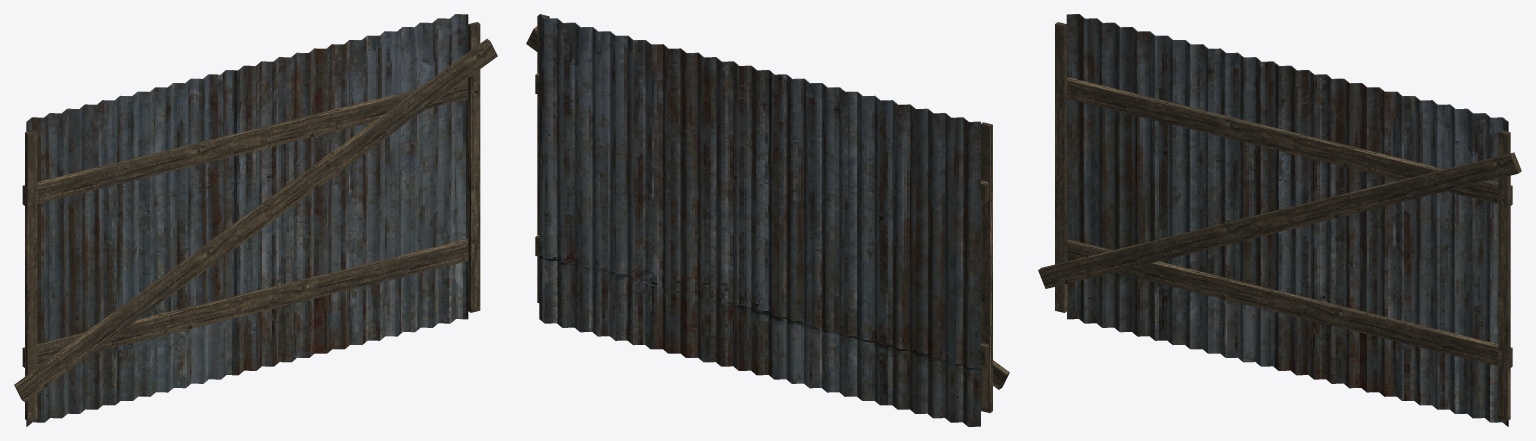
File: fence_b_1.glb
3 renders of one model, left to right at view 1: azimuth 30°, elevation 25°; view 2: azimuth 150°, elevation 25°; view 3: azimuth 330°, elevation 25°, orthographic.
Parts seen in each view (by area): view 1: fence_b_1; view 2: fence_b_1; view 3: fence_b_1.
Part boxes in pixels (x1,y1,x2,y2): fence_b_1: [14, 14, 497, 426]; fence_b_1: [526, 14, 1009, 426]; fence_b_1: [1038, 14, 1521, 426].
Bounding box in the file's own units: 4.03 × 2.44 × 0.1983.
Materials: 2 (2 with a texture image).
